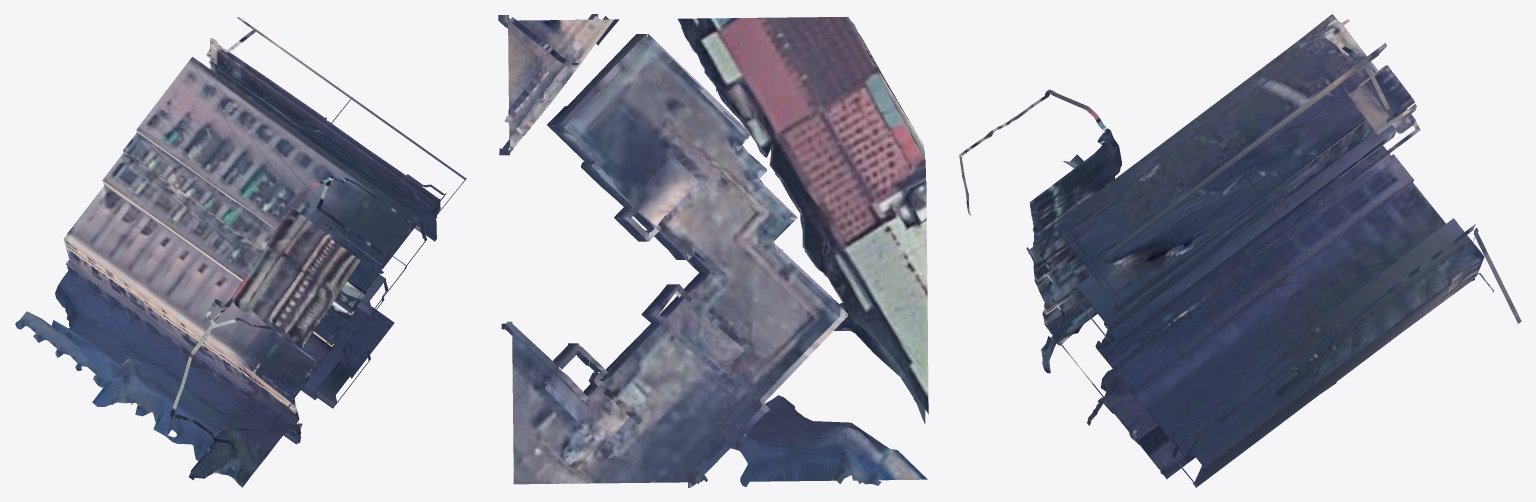
3 renders of one model, left to right at view 1: azimuth 30°, elevation 25°; view 2: azimuth 150°, elevation 25°; view 3: azimuth 270°, elevation 25°, orthographic. The views are drawn at different scales.
Bounding box in the file's own units: 51.54 × 50.59 × 56.78.
Materials: 2 (2 with a texture image).
